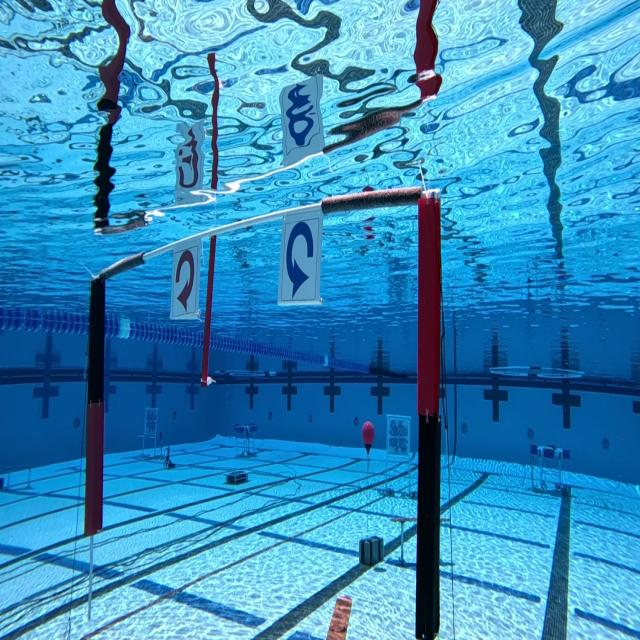blue_side: (277, 205, 325, 302)
red_side: (170, 248, 204, 324)
